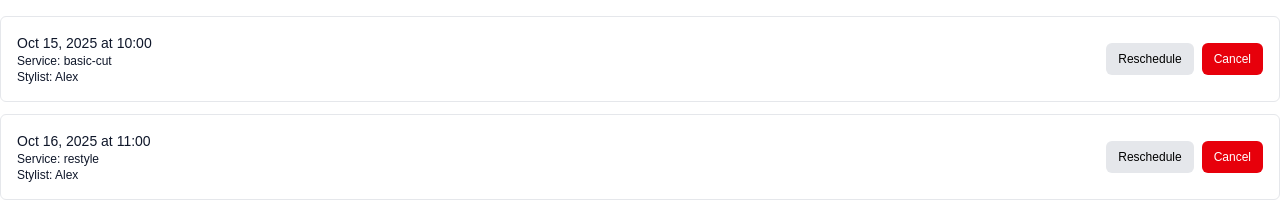
AppointmentsList optimistic cancel › removes the appointment from the list after cancel
Check: the text "Service: basic-cut" is shown, box x1=17 y1=54 x2=112 y2=68
Check: the text "Service: restyle" is shown, box x1=17 y1=152 x2=99 y2=166
// Cancel the first appointment
Step 1. Click the button "Cancel" in the row of "10:00" → (1232, 59), box x1=1202 y1=43 x2=1263 y2=75
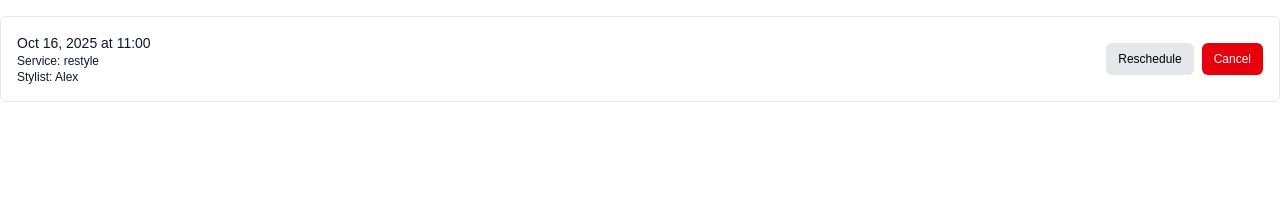
Check: the text "Service: restyle" is shown, box x1=17 y1=54 x2=99 y2=68
Check: the text "Service: basic-cut" is gone
